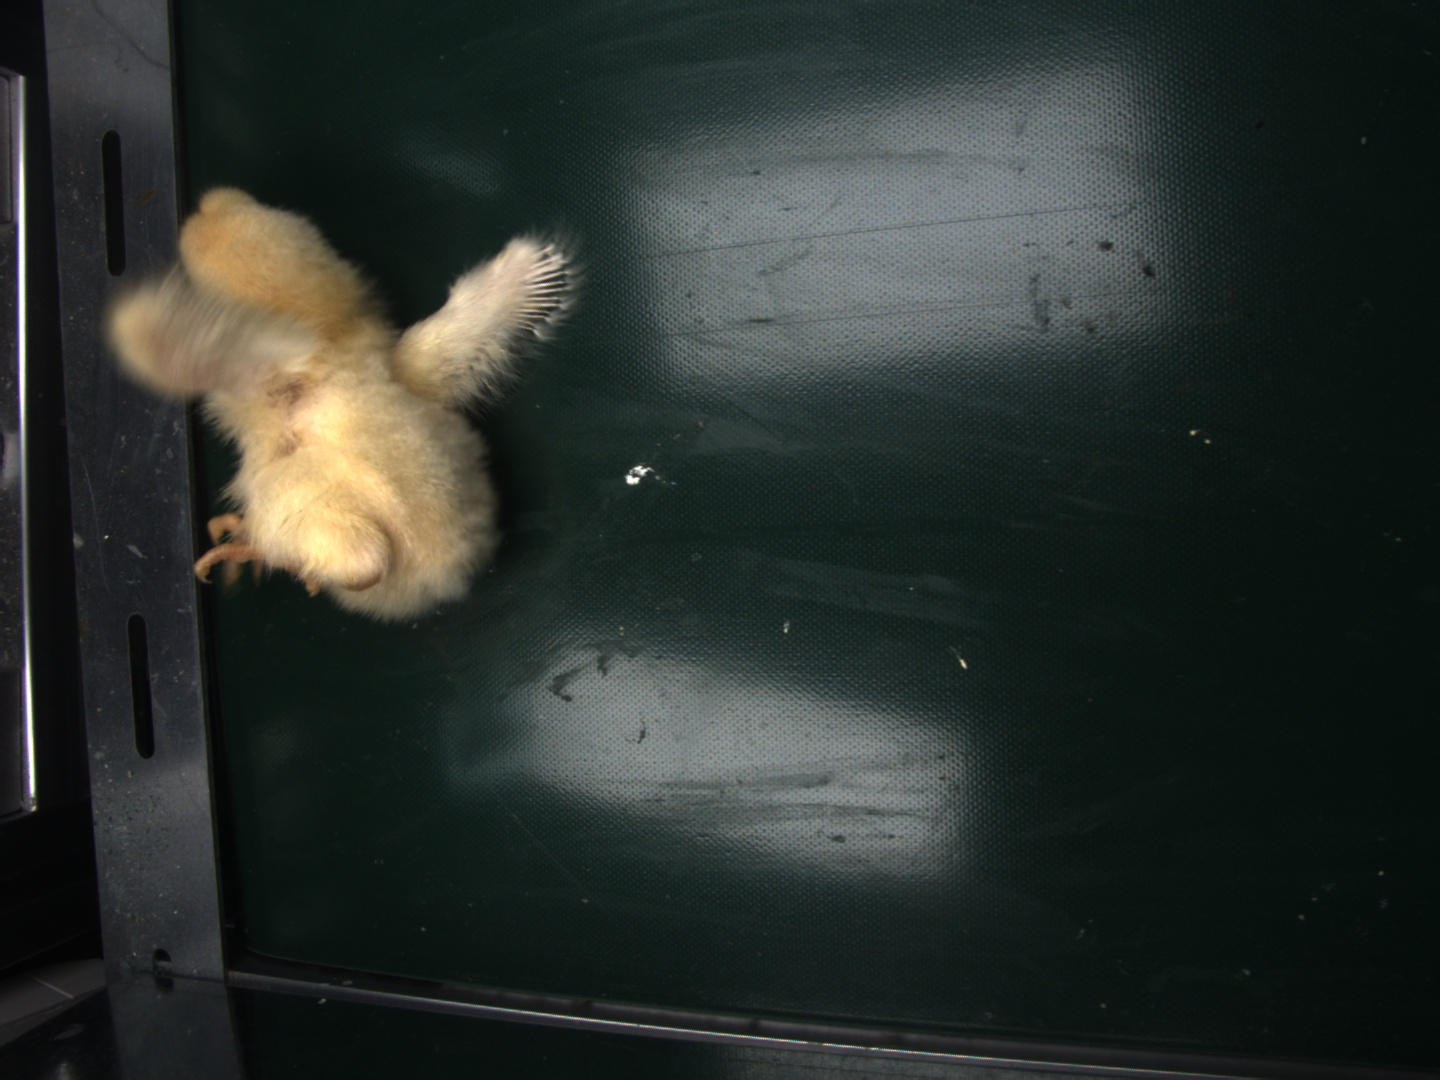male: (517, 242, 570, 330)
